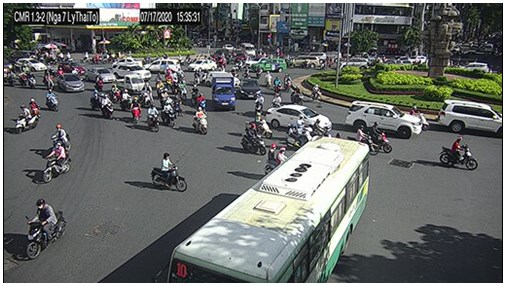xe_hoi: (345, 100, 421, 139), (439, 98, 502, 137), (265, 107, 332, 133), (113, 63, 152, 80), (57, 72, 85, 92), (254, 58, 287, 72), (144, 59, 180, 71), (289, 56, 321, 69), (88, 68, 115, 83), (16, 58, 47, 71), (239, 79, 260, 98), (57, 62, 87, 75), (336, 57, 370, 68), (113, 56, 143, 68), (187, 59, 217, 71), (459, 62, 489, 73)
xe_may: (27, 200, 67, 261), (150, 152, 187, 192), (439, 136, 478, 171), (42, 141, 70, 184), (342, 125, 378, 156), (240, 121, 267, 156), (286, 123, 315, 153), (369, 121, 392, 155), (16, 103, 39, 133), (51, 125, 72, 155), (266, 144, 286, 173), (251, 112, 272, 139), (191, 107, 208, 136), (311, 119, 331, 141), (296, 115, 312, 142), (148, 103, 161, 132), (162, 100, 174, 129), (100, 94, 113, 120), (140, 81, 154, 105), (120, 87, 135, 109), (131, 94, 141, 127), (46, 89, 59, 112), (29, 98, 42, 120), (172, 94, 183, 120), (90, 89, 104, 109), (18, 68, 31, 89), (289, 86, 303, 105), (196, 93, 207, 115), (111, 83, 123, 103), (252, 93, 264, 113), (5, 66, 15, 88), (95, 74, 106, 92), (26, 70, 36, 89), (156, 81, 166, 99), (272, 76, 282, 94), (45, 72, 54, 91), (190, 84, 197, 105), (284, 72, 291, 90)
